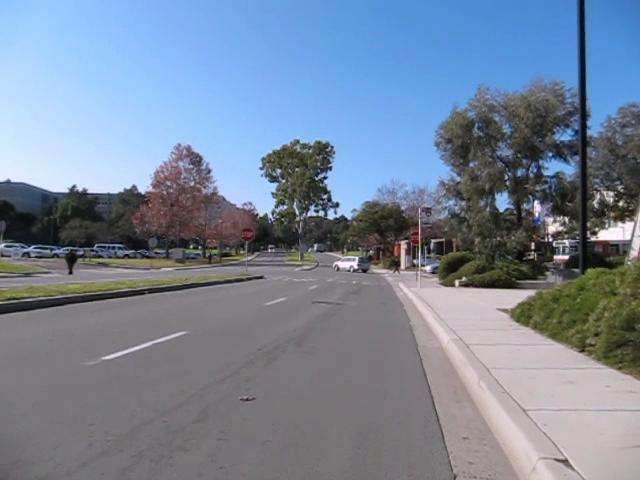stop: (239, 226, 255, 242)
